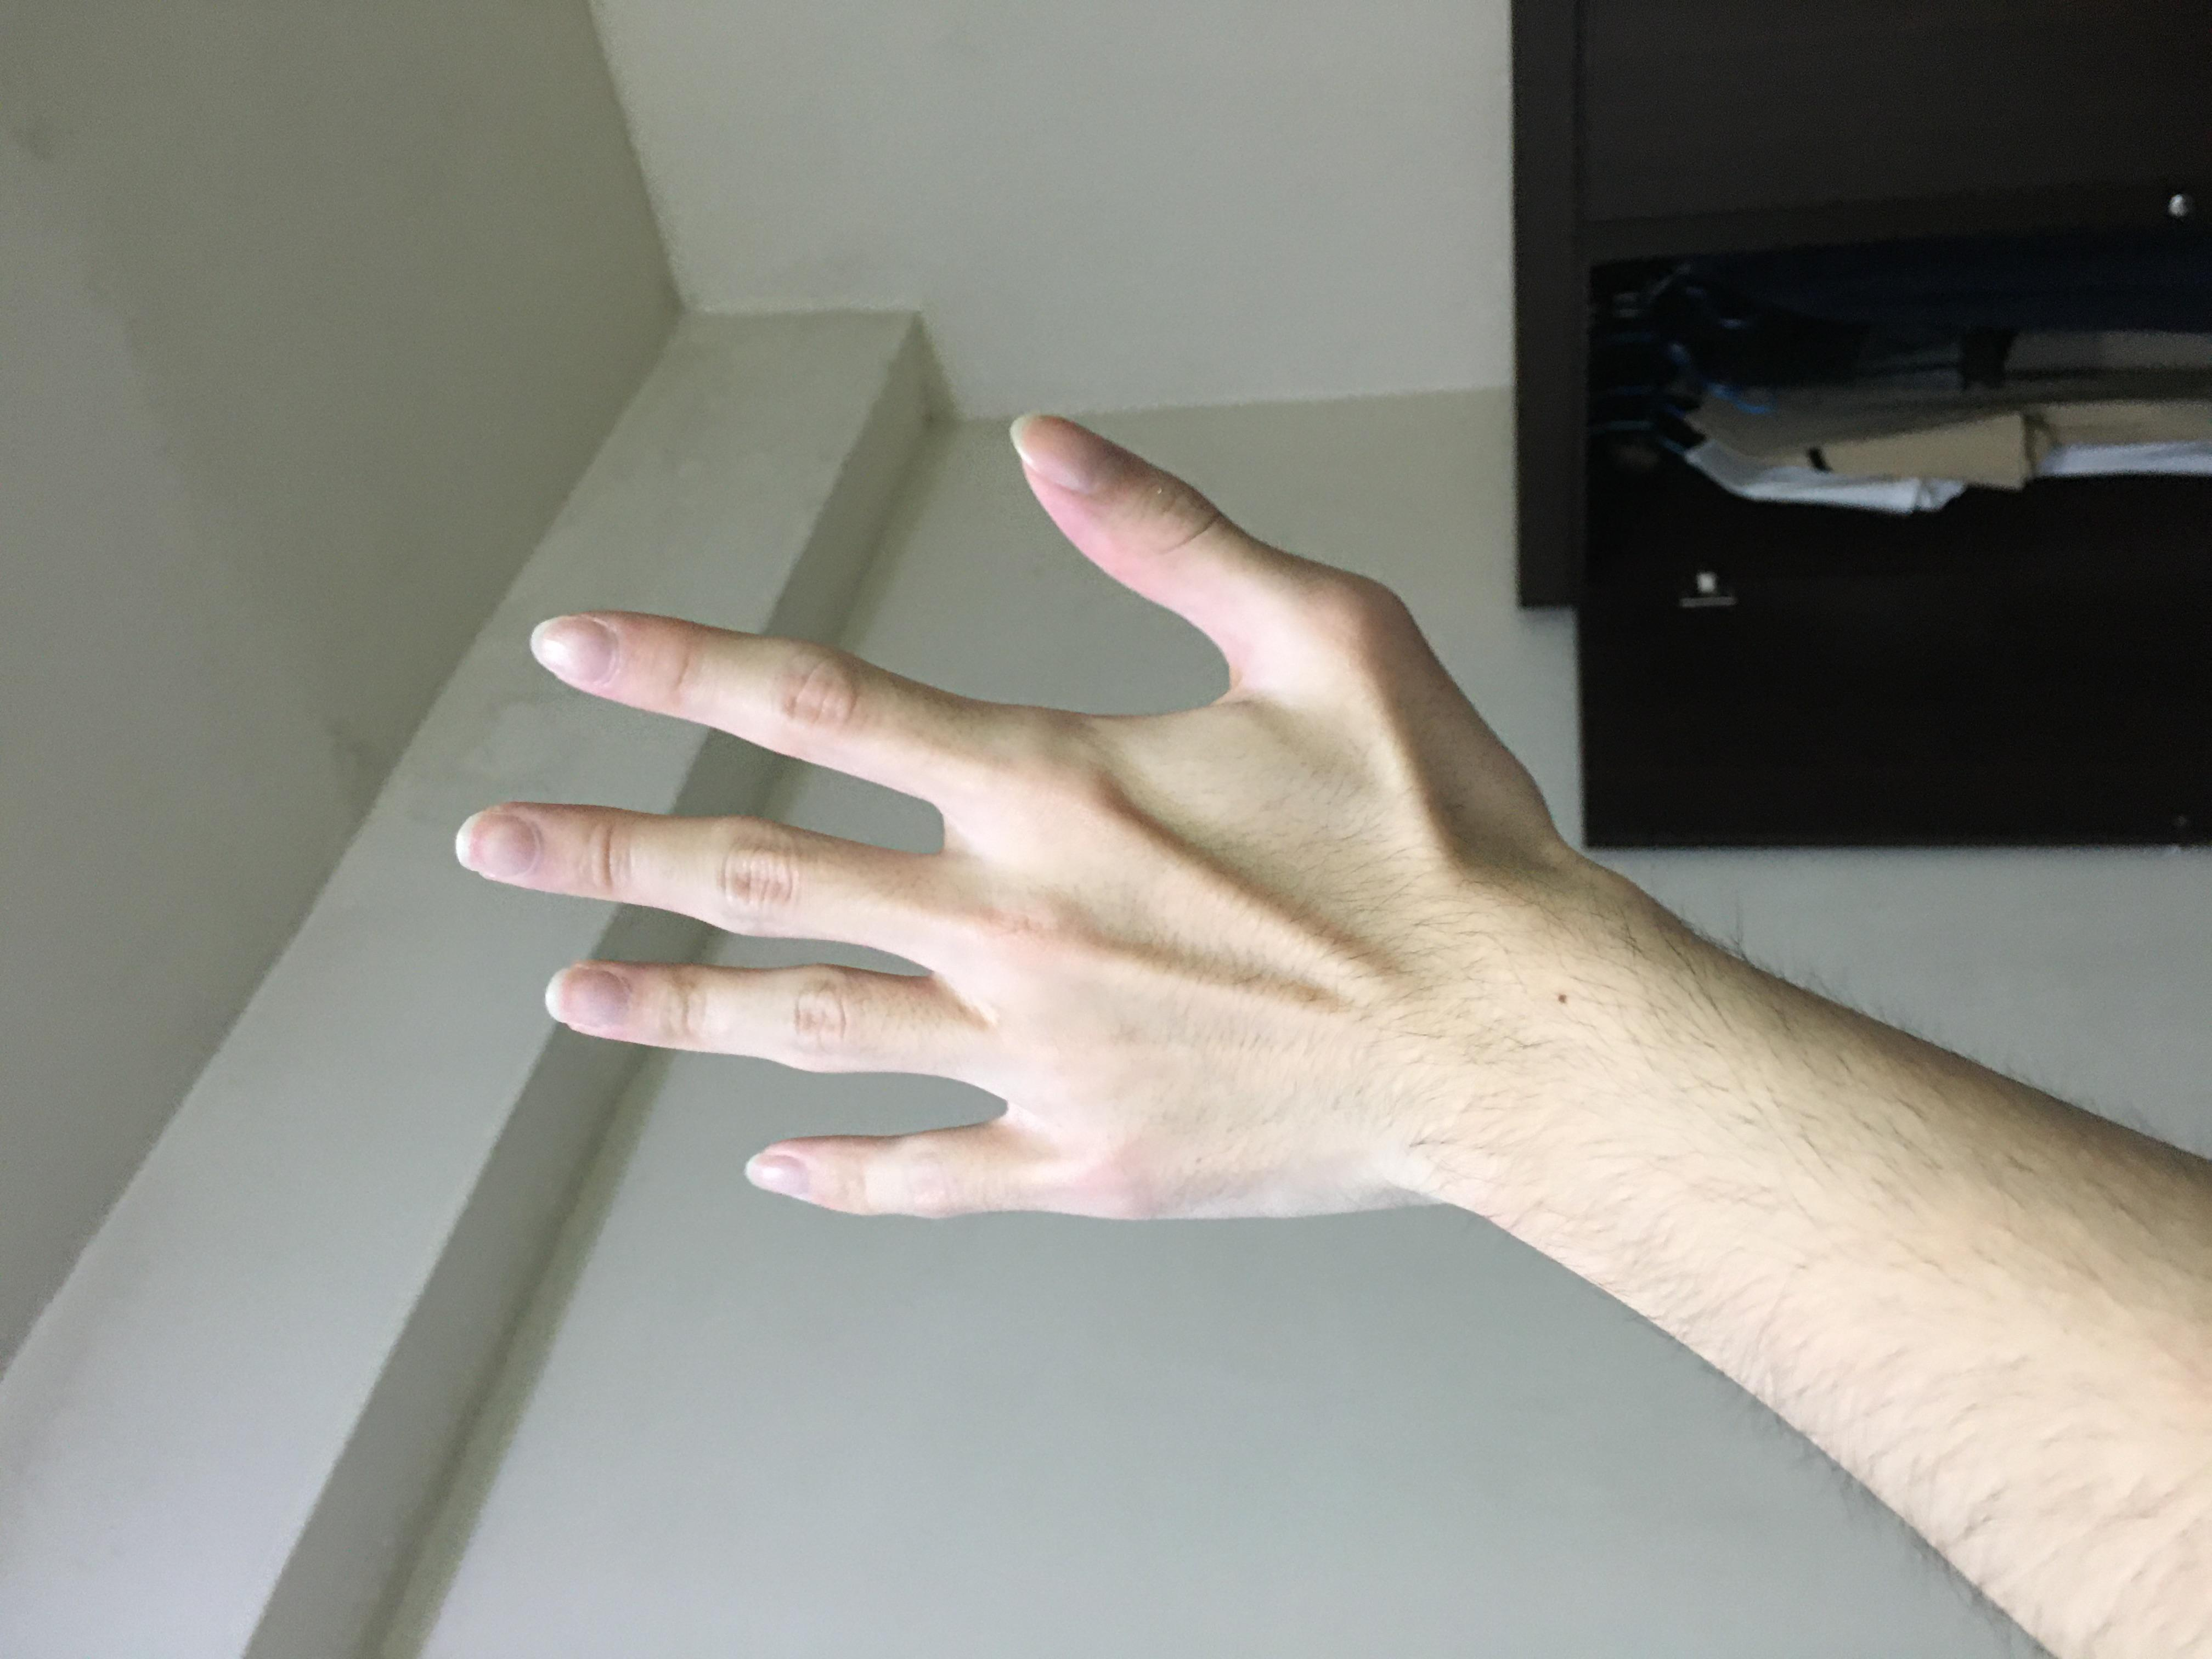hand: (581, 337, 1667, 1092)
